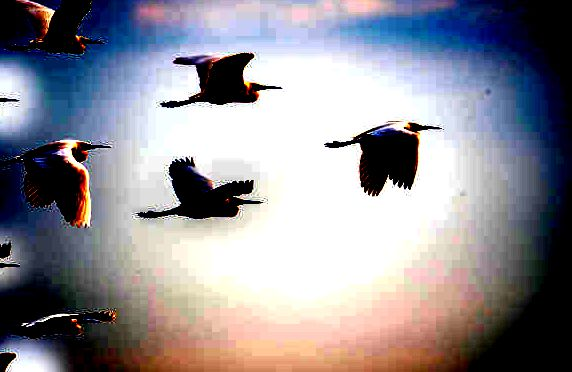Bird: (319, 116, 442, 200), (10, 137, 113, 232), (134, 154, 263, 221), (158, 47, 284, 107), (14, 0, 105, 58), (20, 309, 118, 345)
